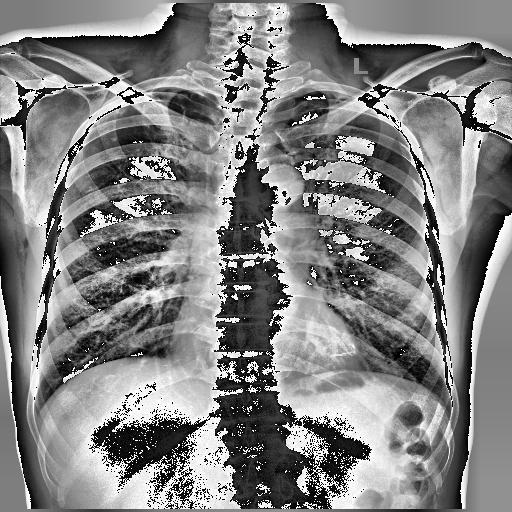0- Aortic enlargement: (251, 166, 309, 228), (246, 158, 307, 208), (248, 163, 304, 210)
11- Pleural thickening: (116, 86, 156, 110), (326, 90, 368, 105), (330, 88, 366, 104)
13- Pulmonary fibrosis: (301, 103, 328, 137), (172, 98, 192, 130)
